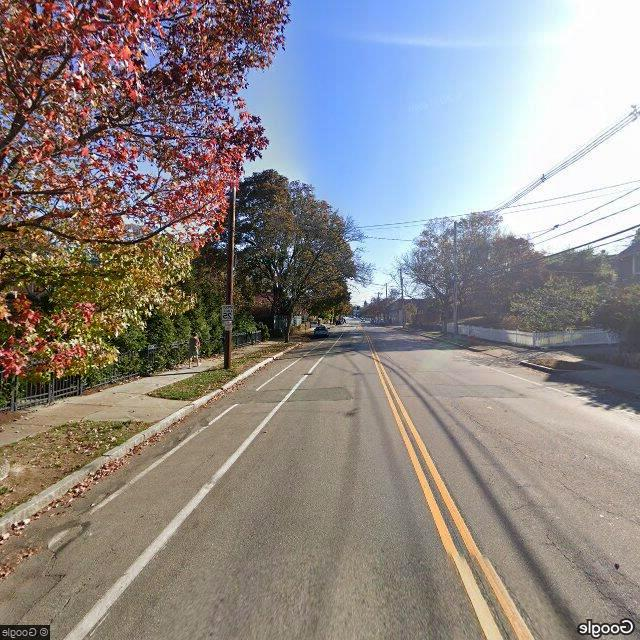pothole: (543, 533, 639, 617)
